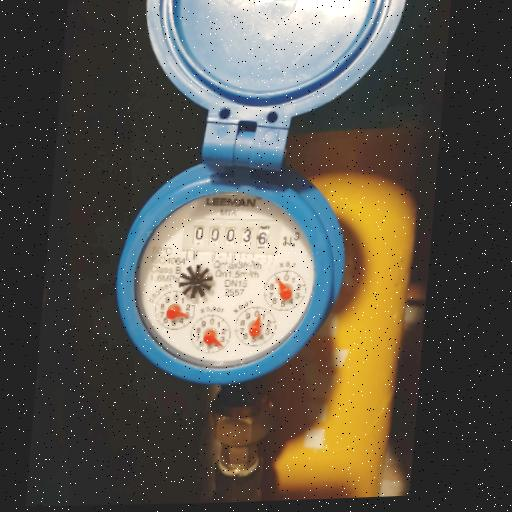0: (191, 225, 206, 246), (208, 226, 222, 246), (224, 227, 237, 247)
3: (240, 227, 253, 247)
6: (254, 225, 271, 249)
border_water_meter_number: (180, 212, 284, 259)
